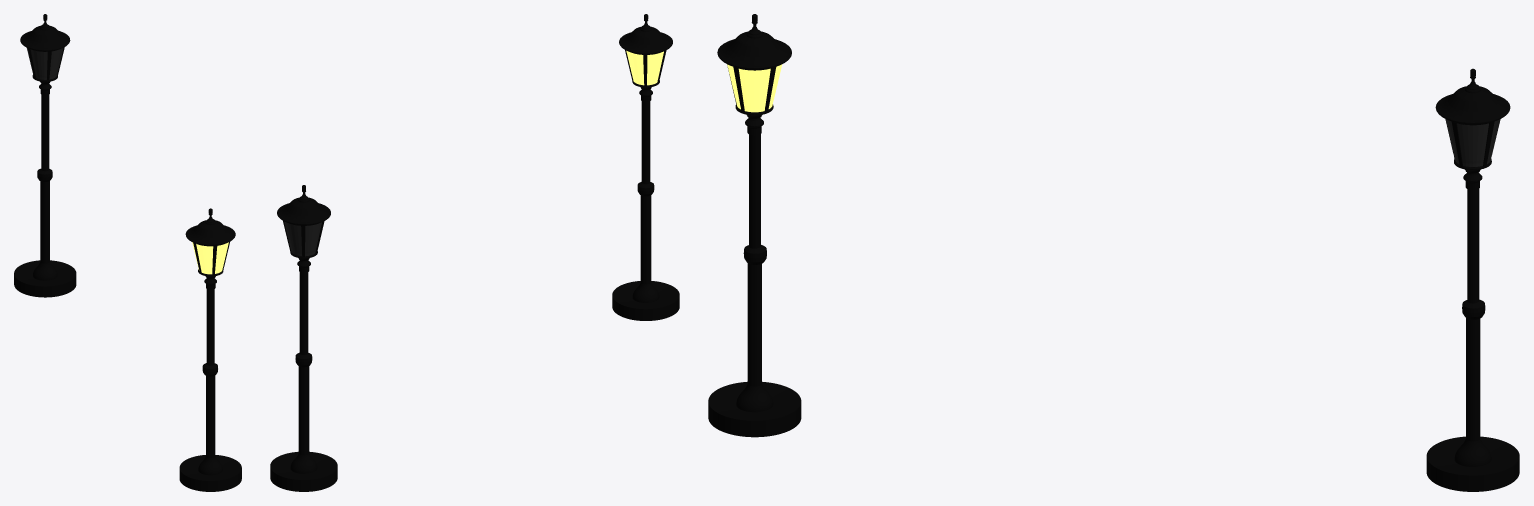
File: StreetLight3.fbx
The picture shows the model from 3 angles, left to right: view 1: azimuth 30°, elevation 25°; view 2: azimuth 150°, elevation 25°; view 3: azimuth 270°, elevation 25°; orthographic projection. The views are drawn at different scales.
Visible parts, largest first — view 1: Cylinder.002, Object001; view 2: Object001, Cylinder.002; view 3: Cylinder.002, Object001.
Boxes of the visible parts, x1,y1,x2,y2 form: Cylinder.002: (14,14,76,297); Object001: (179,208,241,491); Object001: (612,14,679,320); Cylinder.002: (270,185,337,491); Cylinder.002: (1426,68,1519,491); Object001: (708,14,801,437).
Size of the model in its own units: 8.39 by 16.75 by 30.57.
